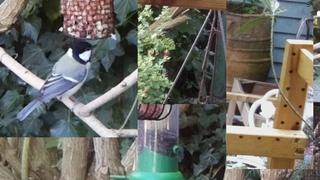great tit: (16, 40, 98, 122)
